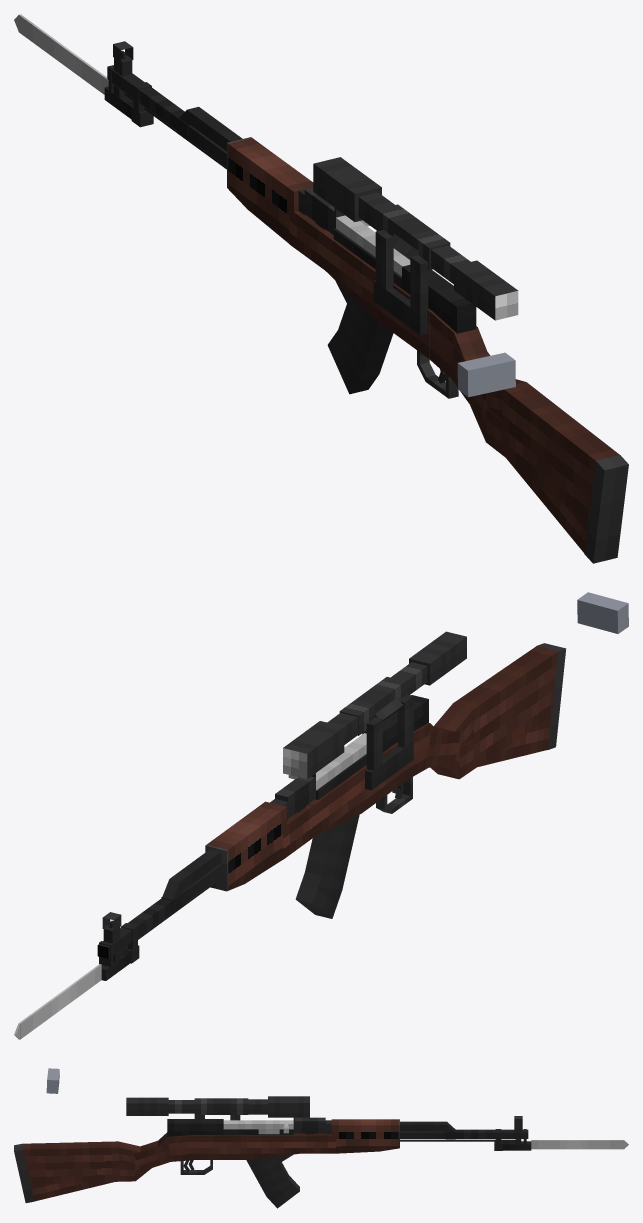
File: sks_type_56.glb
The picture shows the model from 3 angles, top to bottom: view 1: azimuth 30°, elevation 25°; view 2: azimuth 150°, elevation 25°; view 3: azimuth 270°, elevation 25°; orthographic projection. The views are drawn at different scales.
Visible parts, largest first — view 1: cube_16, cube_5, cube_17, cube_9, cube_65, cube_61, cube_59, cube_22, camera_0, cube_1, cube_58, cube_30 (+12 smaller); view 2: cube_16, cube_5, cube_9, cube_59, cube_65, cube_1, cube_61, camera_0, cube_58, cube_30, cube_64, cube_18 (+13 smaller); view 3: cube_16, cube_5, cube_9, cube_11, cube_65, cube_1, cube_22, cube_58, cube_30, cube_59, cube_61, cube_18 (+17 smaller).
Boxes of the visible parts, x1,y1,x2,y2 form: cube_16: [501, 382, 619, 521]; cube_5: [228, 138, 313, 228]; cube_17: [584, 455, 628, 563]; cube_9: [289, 209, 376, 307]; cube_65: [335, 295, 393, 378]; cube_61: [454, 260, 518, 320]; cube_59: [313, 157, 381, 221]; cube_22: [402, 265, 476, 333]; camera_0: [457, 352, 515, 397]; cube_1: [107, 65, 226, 166]; cube_58: [376, 204, 450, 270]; cube_30: [18, 14, 108, 94]; cube_16: [452, 646, 558, 769]; cube_5: [207, 801, 286, 885]; cube_9: [283, 770, 361, 859]; cube_59: [283, 721, 344, 779]; cube_65: [305, 814, 359, 890]; cube_1: [97, 864, 221, 958]; cube_61: [409, 631, 466, 685]; camera_0: [577, 592, 628, 633]; cube_58: [339, 677, 405, 735]; cube_30: [18, 964, 101, 1039]; cube_64: [295, 871, 341, 918]; cube_18: [478, 717, 551, 766]; cube_16: [23, 1141, 119, 1183]; cube_5: [331, 1119, 398, 1145]; cube_9: [247, 1133, 335, 1153]; cube_11: [193, 1135, 247, 1159]; cube_65: [246, 1156, 291, 1196]; cube_1: [400, 1129, 528, 1138]; cube_22: [167, 1119, 223, 1136]; cube_58: [194, 1098, 248, 1114]; cube_30: [531, 1140, 623, 1149]; cube_59: [268, 1096, 309, 1117]; cube_61: [126, 1097, 168, 1115]; cube_18: [30, 1182, 113, 1201].
Size of the model in its own units: 0.4631 by 0.6592 by 3.37.
2 materials, 1 textured.
